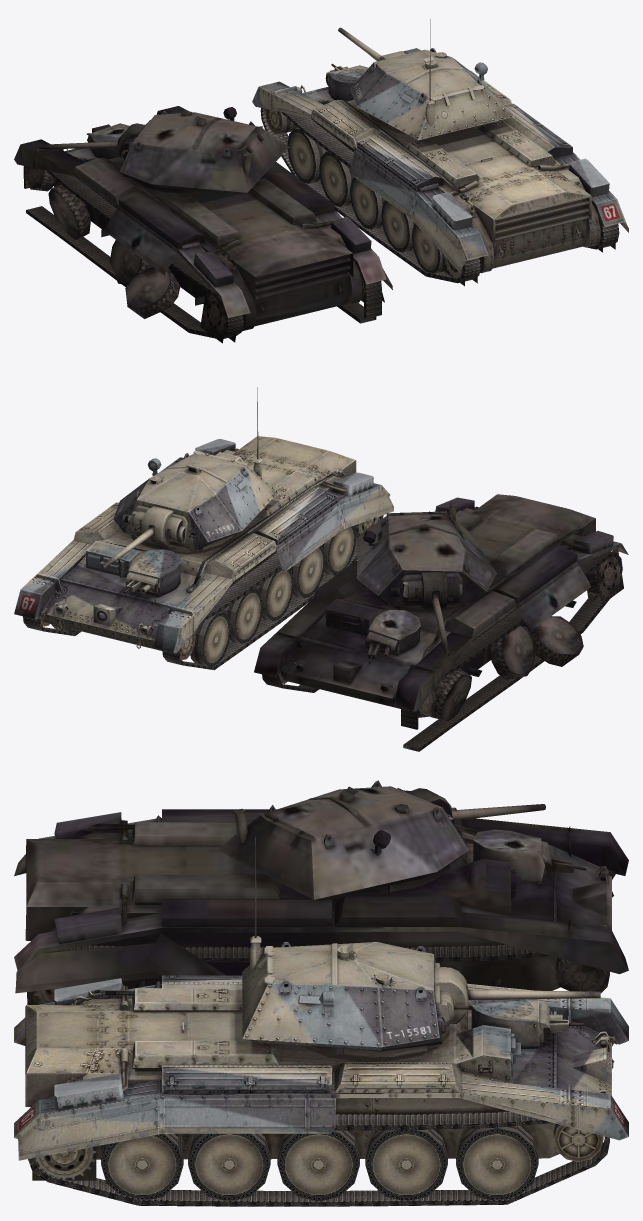
Rendered from Crusader.FBX.
The picture shows the model from 3 angles, top to bottom: view 1: azimuth 30°, elevation 25°; view 2: azimuth 150°, elevation 25°; view 3: azimuth 270°, elevation 25°; orthographic projection. The views are drawn at different scales.
Parts seen in each view (by area): view 1: LOD01_crusader_wreck-1, LOD01_crusader_hull-1, LOD01_crusader_tow-1, LOD01_crusaderi_l_track_m1-1, LOD01_crusader2l_m1-1, LOD01_crusader2l_m1-02, LOD01_crusader2l_m1-03, LOD01_crusader2l_m1-04, LOD01_crusader2l_m1-05, LOD01_crusader_towf-1, LOD01_crusader1l_m1-1; view 2: LOD01_crusader_wreck-1, LOD01_crusader_hull-1, LOD01_crusader_tow-1, LOD01_crusaderi_l_track_m1-1, LOD01_crusader_towf-1, LOD01_crusader2l_m1-1, LOD01_crusader2l_m1-02, LOD01_crusader2l_m1-03, LOD01_crusader2l_m1-04, LOD01_crusader2l_m1-05; view 3: LOD01_crusader_wreck-1, LOD01_crusader_hull-1, LOD01_crusader_tow-1, LOD01_crusaderi_l_track_m1-02, LOD01_crusader2l_m1-06, LOD01_crusader2l_m1-07, LOD01_crusader2l_m1-08, LOD01_crusader2l_m1-09, LOD01_crusader2l_m1-10, LOD01_crusader_towf-1, LOD01_crusader3l_m1-02, LOD01_crusader1l_m1-02 (+1 smaller).
Part boxes in pixels (x1=…): LOD01_crusader_wreck-1: x1=14, y1=106, x2=392, y2=343; LOD01_crusader_hull-1: x1=252, y1=48, x2=628, y2=273; LOD01_crusader_tow-1: x1=350, y1=19, x2=514, y2=140; LOD01_crusaderi_l_track_m1-1: x1=260, y1=108, x2=480, y2=283; LOD01_crusader2l_m1-1: x1=287, y1=127, x2=326, y2=183; LOD01_crusader2l_m1-02: x1=319, y1=151, x2=353, y2=206; LOD01_crusader2l_m1-03: x1=349, y1=177, x2=384, y2=229; LOD01_crusader2l_m1-04: x1=381, y1=200, x2=414, y2=252; LOD01_crusader2l_m1-05: x1=411, y1=223, x2=443, y2=273; LOD01_crusader_towf-1: x1=325, y1=65, x2=368, y2=101; LOD01_crusader1l_m1-1: x1=265, y1=109, x2=294, y2=134; LOD01_crusader_wreck-1: x1=254, y1=494, x2=628, y2=751; LOD01_crusader_hull-1: x1=14, y1=436, x2=393, y2=653; LOD01_crusader_tow-1: x1=113, y1=387, x2=278, y2=552; LOD01_crusaderi_l_track_m1-1: x1=162, y1=515, x2=383, y2=670; LOD01_crusader_towf-1: x1=125, y1=549, x2=180, y2=596; LOD01_crusader2l_m1-1: x1=190, y1=611, x2=230, y2=666; LOD01_crusader2l_m1-02: x1=222, y1=588, x2=262, y2=644; LOD01_crusader2l_m1-03: x1=255, y1=568, x2=293, y2=621; LOD01_crusader2l_m1-04: x1=290, y1=545, x2=325, y2=598; LOD01_crusader2l_m1-05: x1=321, y1=525, x2=356, y2=575; LOD01_crusader_wreck-1: x1=14, y1=780, x2=628, y2=1004; LOD01_crusader_hull-1: x1=14, y1=975, x2=628, y2=1160; LOD01_crusader_tow-1: x1=242, y1=837, x2=468, y2=1057; LOD01_crusaderi_l_track_m1-02: x1=28, y1=1111, x2=609, y2=1206; LOD01_crusader2l_m1-06: x1=456, y1=1125, x2=538, y2=1199; LOD01_crusader2l_m1-07: x1=365, y1=1129, x2=447, y2=1200; LOD01_crusader2l_m1-08: x1=277, y1=1130, x2=359, y2=1201; LOD01_crusader2l_m1-09: x1=188, y1=1133, x2=270, y2=1200; LOD01_crusader2l_m1-10: x1=101, y1=1133, x2=183, y2=1199; LOD01_crusader_towf-1: x1=471, y1=999, x2=550, y2=1048; LOD01_crusader3l_m1-02: x1=32, y1=1146, x2=96, y2=1180; LOD01_crusader1l_m1-02: x1=553, y1=1123, x2=603, y2=1162.
Size of the model in its own units: 1.94 by 0.9645 by 1.7.
Materials: 9 (9 with a texture image).
